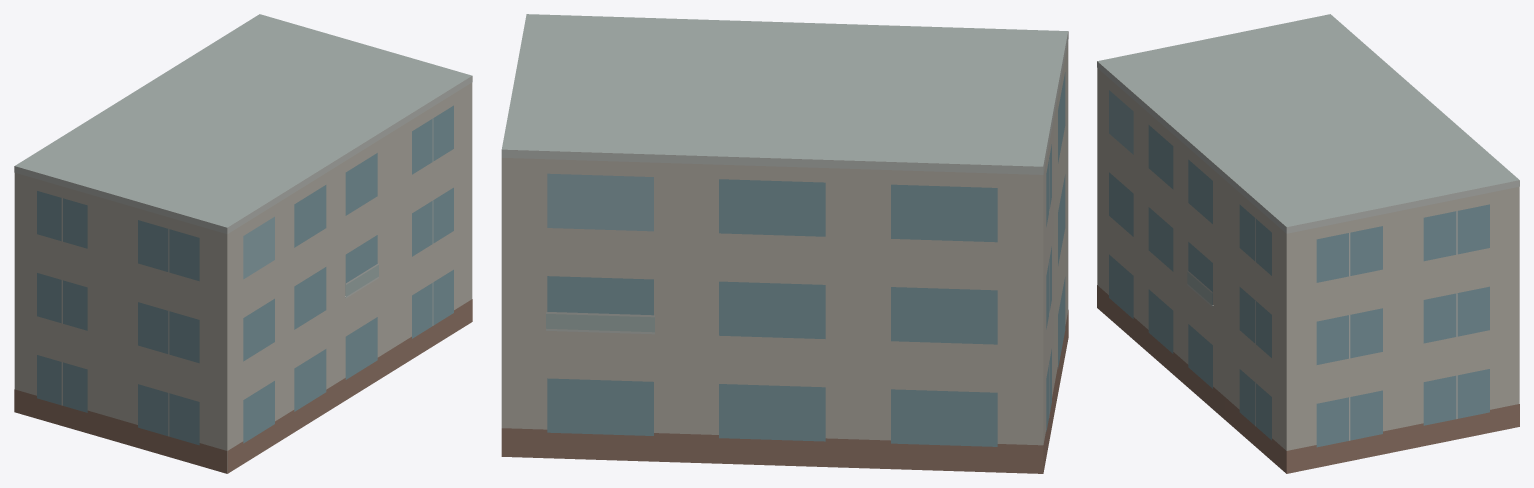
The model's file is survey-upis-32705594.glb.
3 views of the same model, side by side, from view 1: azimuth 30°, elevation 25°; view 2: azimuth 150°, elevation 25°; view 3: azimuth 270°, elevation 25° (orthographic). The views are drawn at different scales.
Parts seen in each view (by area): view 1: survey-upis-32705594.tmp; view 2: survey-upis-32705594.tmp; view 3: survey-upis-32705594.tmp.
Boxes of the visible parts, x1=… form: survey-upis-32705594.tmp: x1=14, y1=14, x2=472, y2=473; survey-upis-32705594.tmp: x1=501, y1=14, x2=1068, y2=473; survey-upis-32705594.tmp: x1=1097, y1=14, x2=1519, y2=473.
Size of the model in its own units: 16.97 by 9.15 by 14.22.
